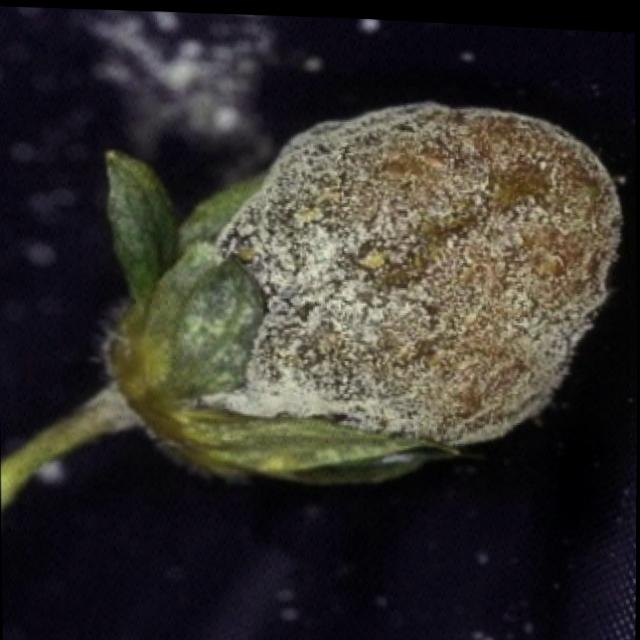Gray Mold: (106, 93, 625, 486)
